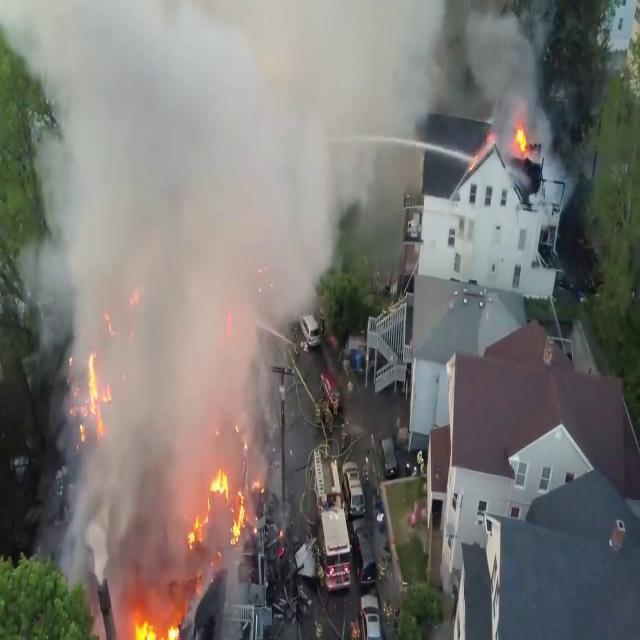Fire: (186, 464, 254, 548), (72, 348, 108, 442), (122, 605, 184, 640), (512, 118, 532, 162)
Smoke: (20, 0, 296, 588)
